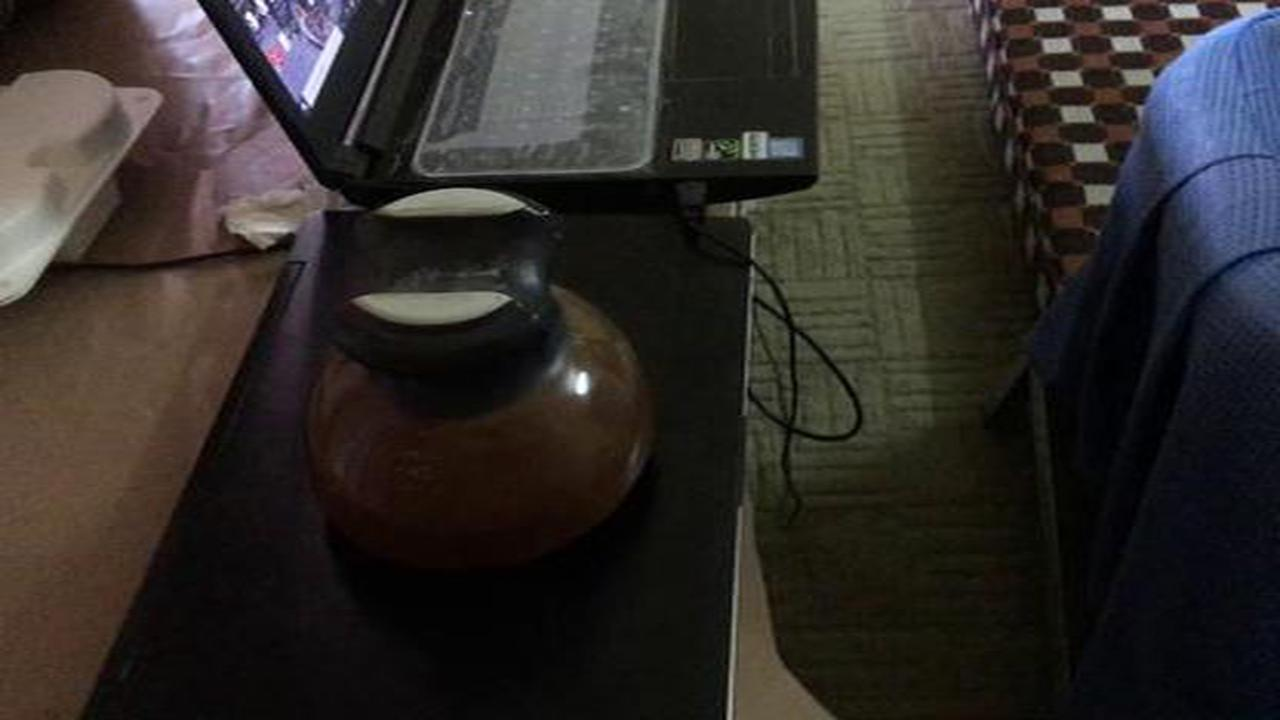insulator_pin: (281, 177, 681, 586)
